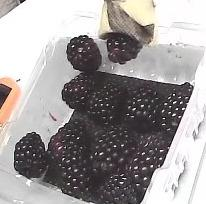berry: (89, 125, 138, 175), (128, 133, 167, 193), (84, 80, 124, 127), (57, 157, 98, 202), (47, 118, 86, 165), (125, 86, 161, 133), (163, 84, 195, 136), (14, 132, 46, 178), (97, 171, 140, 203), (66, 35, 101, 71), (62, 73, 95, 108), (107, 33, 141, 63)
